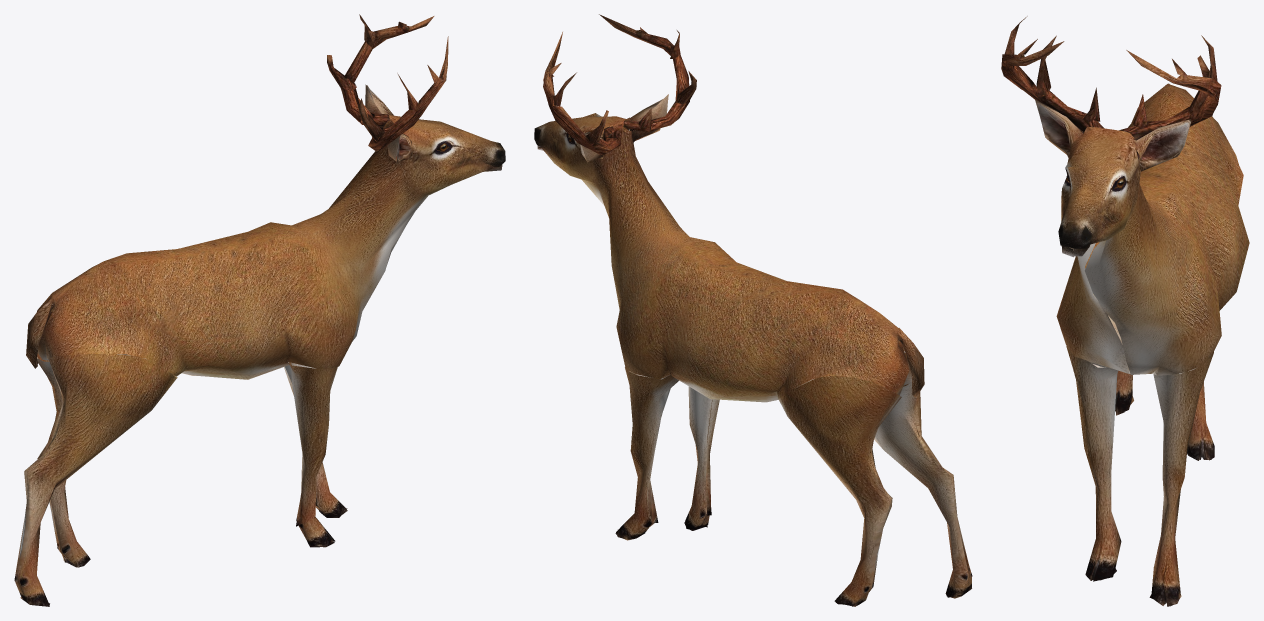
The model's file is olen.glb.
The picture shows the model from 3 angles, left to right: view 1: azimuth 30°, elevation 25°; view 2: azimuth 150°, elevation 25°; view 3: azimuth 270°, elevation 25°; orthographic projection. The views are drawn at different scales.
Parts seen in each view (by area): view 1: deer.002; view 2: deer.002; view 3: deer.002.
Boxes of the visible parts, x1,y1,x2,y2 form: deer.002: [14, 14, 505, 606]; deer.002: [534, 14, 972, 606]; deer.002: [1001, 16, 1249, 606].
Size of the model in its own units: 4.61 by 4.62 by 1.73.
Materials: 1 (1 with a texture image).
